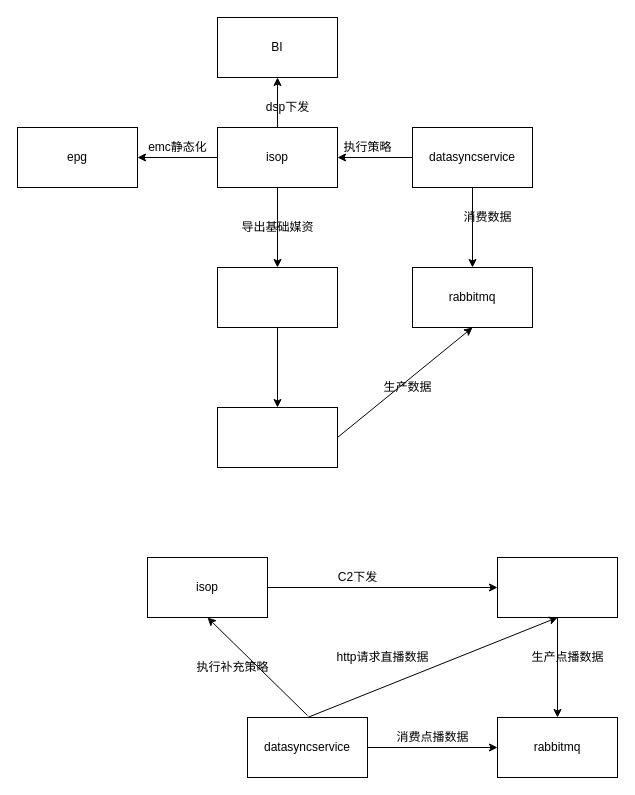
This 635x795 diagram has some shape labels left out. The centre of each missing label's shape, as x and y in pixels:
vgs: [557,587]
vgs导入基础媒资: [277,437]
基础媒资: [277,297]
